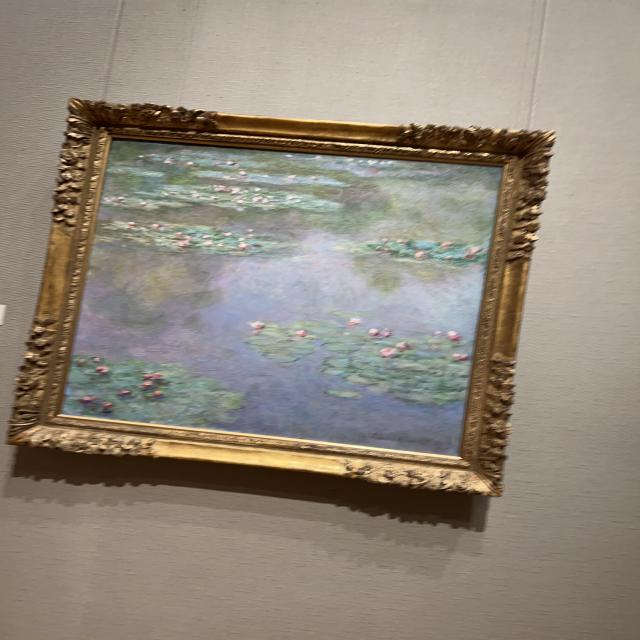lilies: (63, 140, 508, 452)
